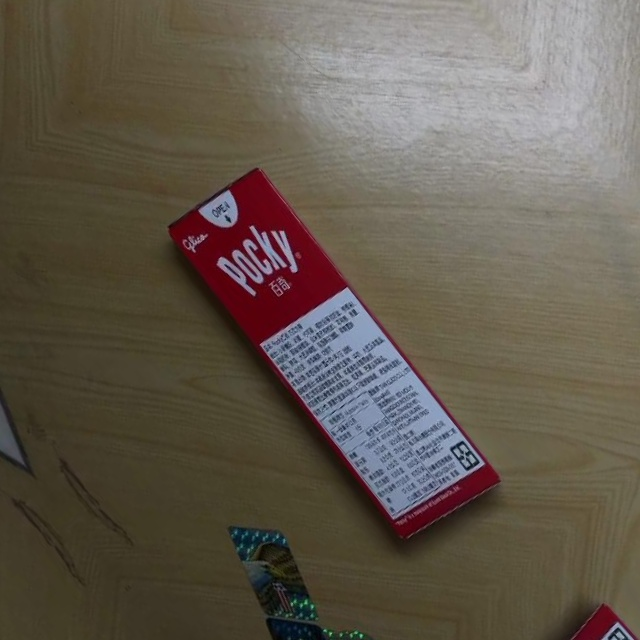Pocky: (149, 152, 517, 555)
